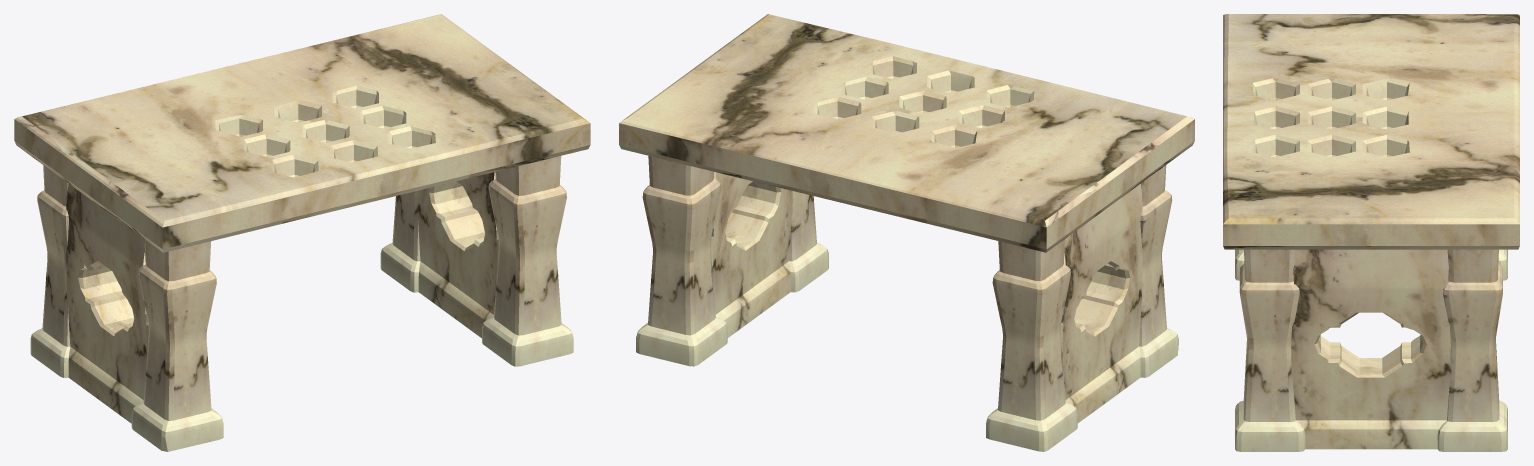
Rendered from selection_table.DAE.
3 views of the same model, side by side, from view 1: azimuth 30°, elevation 25°; view 2: azimuth 150°, elevation 25°; view 3: azimuth 270°, elevation 25° (orthographic).
Visible parts, largest first — view 1: selectionTable; view 2: selectionTable; view 3: selectionTable.
Part boxes in pixels (left/top/right/bottom): selectionTable: left=14, top=14, right=590, bottom=451; selectionTable: left=619, top=14, right=1194, bottom=451; selectionTable: left=1223, top=14, right=1519, bottom=451.
Bounding box in the file's own units: 1.52 × 0.9144 × 0.8011.
1 material, 1 textured.
